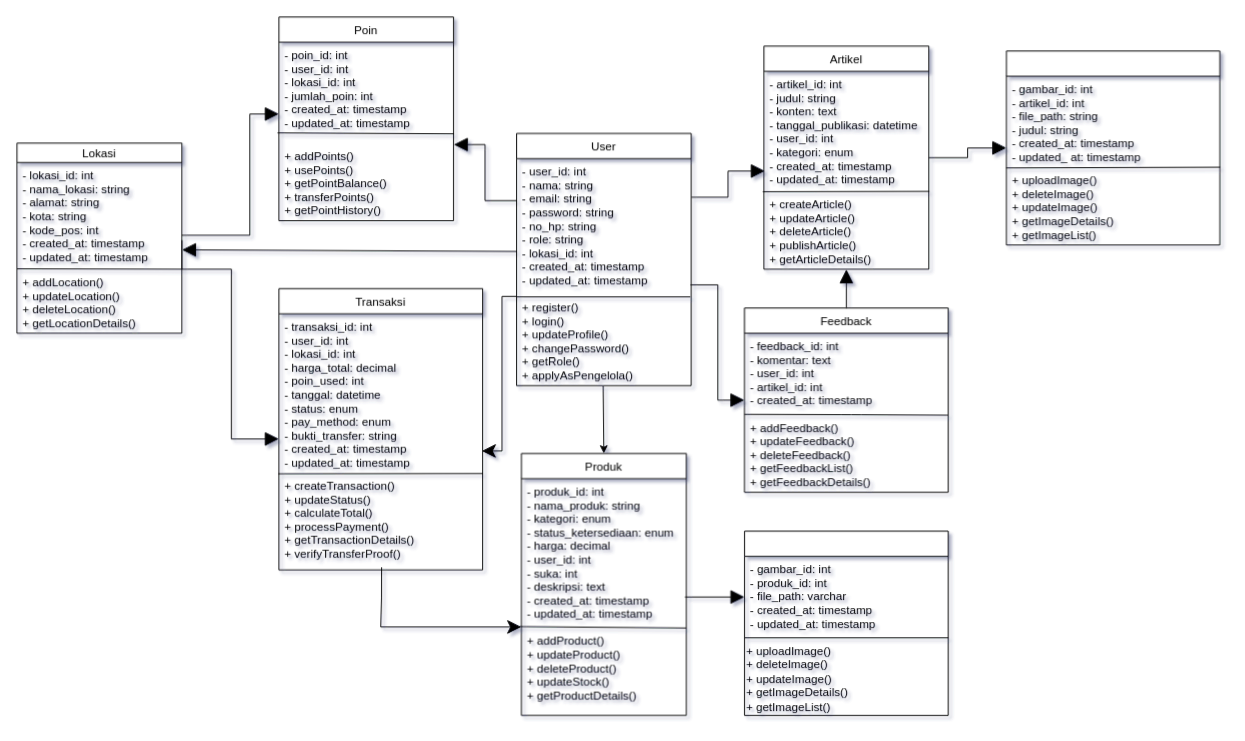
Some shapes in this 1245 by 741 pixel diagram are drawn without their labels. Each missing label, with the box of its shape:
ArtikelGambar: (1005, 50, 1220, 245)
produk_gambar: (744, 530, 948, 715)
